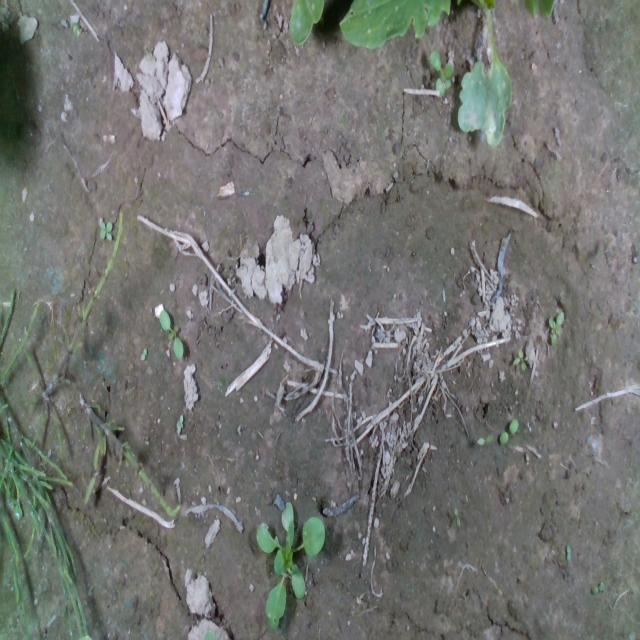weed: (157, 308, 184, 359), (429, 48, 455, 96), (547, 310, 565, 345), (497, 416, 518, 445), (511, 346, 528, 371), (98, 218, 114, 241)
